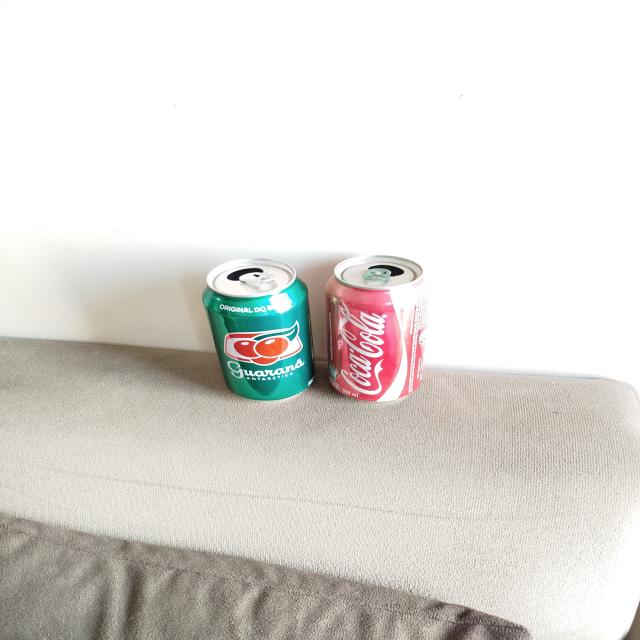Coca Cola: (325, 255, 428, 402)
Guarana: (203, 258, 316, 401)
